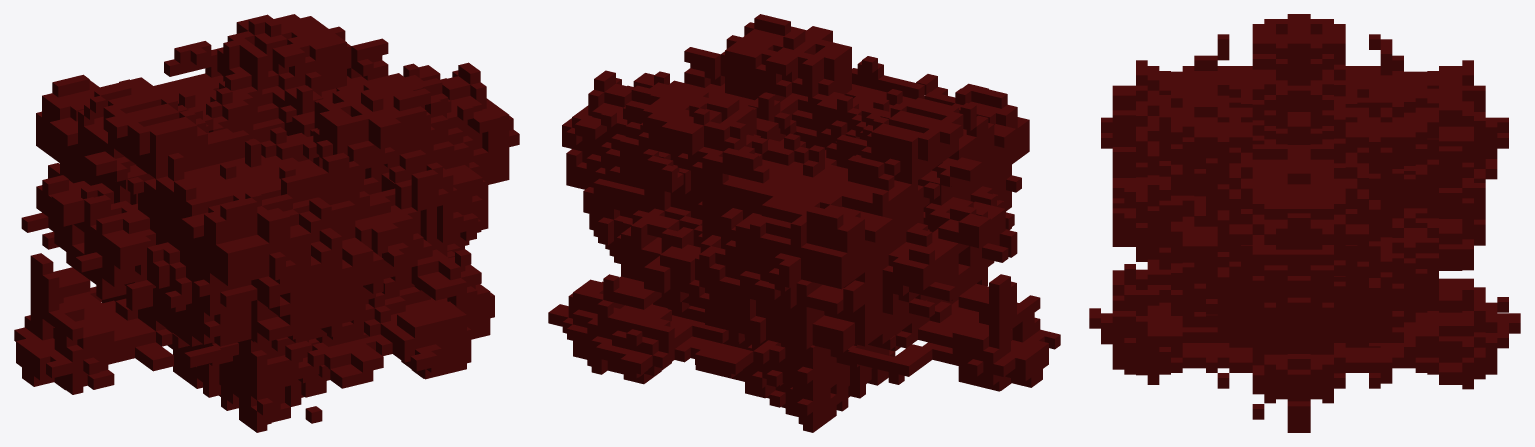
Rendered from bad-12.obj.
The picture shows the model from 3 angles, left to right: view 1: azimuth 30°, elevation 25°; view 2: azimuth 150°, elevation 25°; view 3: azimuth 270°, elevation 25°; orthographic projection. The views are drawn at different scales.
Bounding box in the file's own units: 4.5 × 3.1 × 3.7.
Materials: 1 (1 with a texture image).
